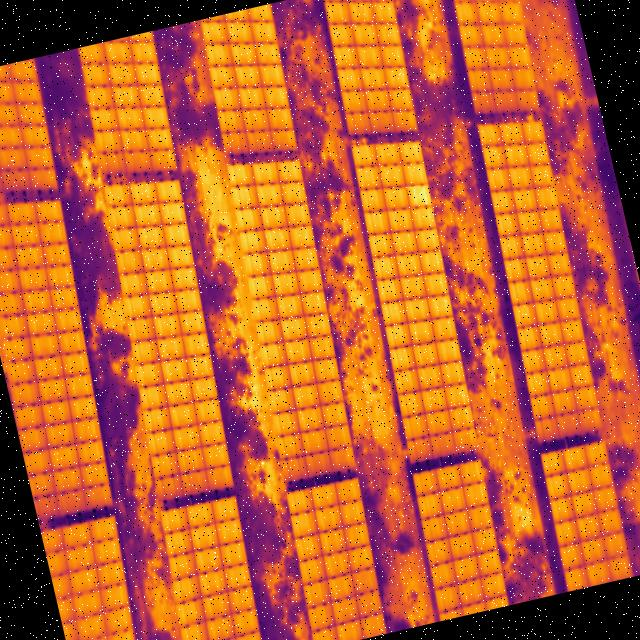Hotspot: (402, 177, 434, 210)
